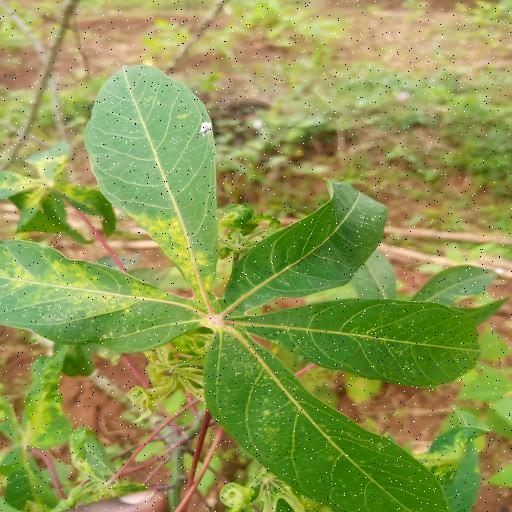Cassava_Mosaic: (0, 59, 506, 512)
